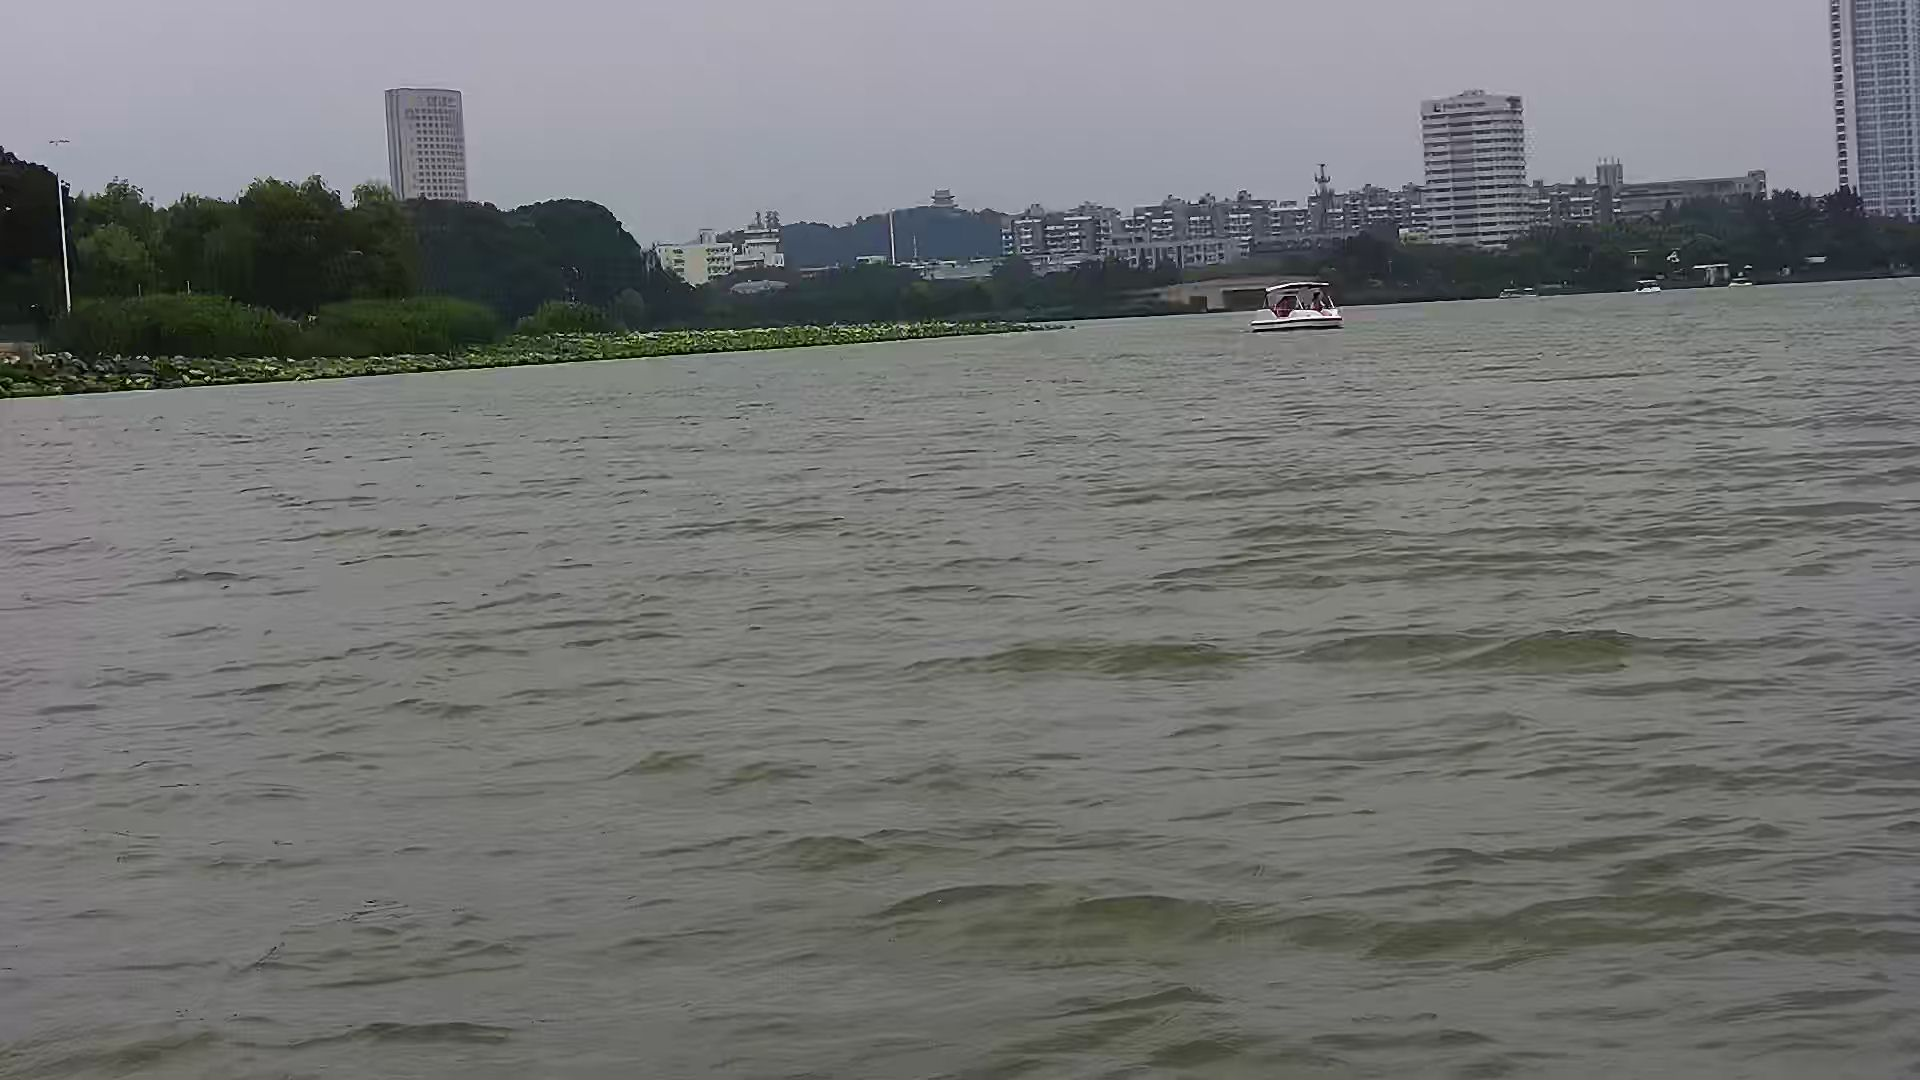boat: (1247, 270, 1345, 331)
